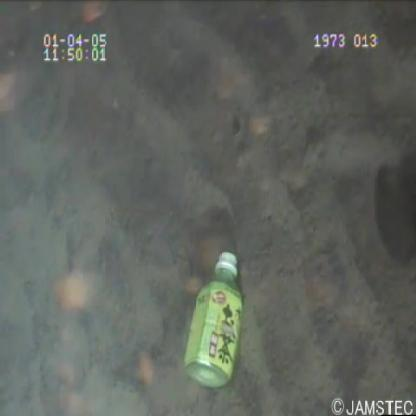Rác: (181, 246, 252, 396)
